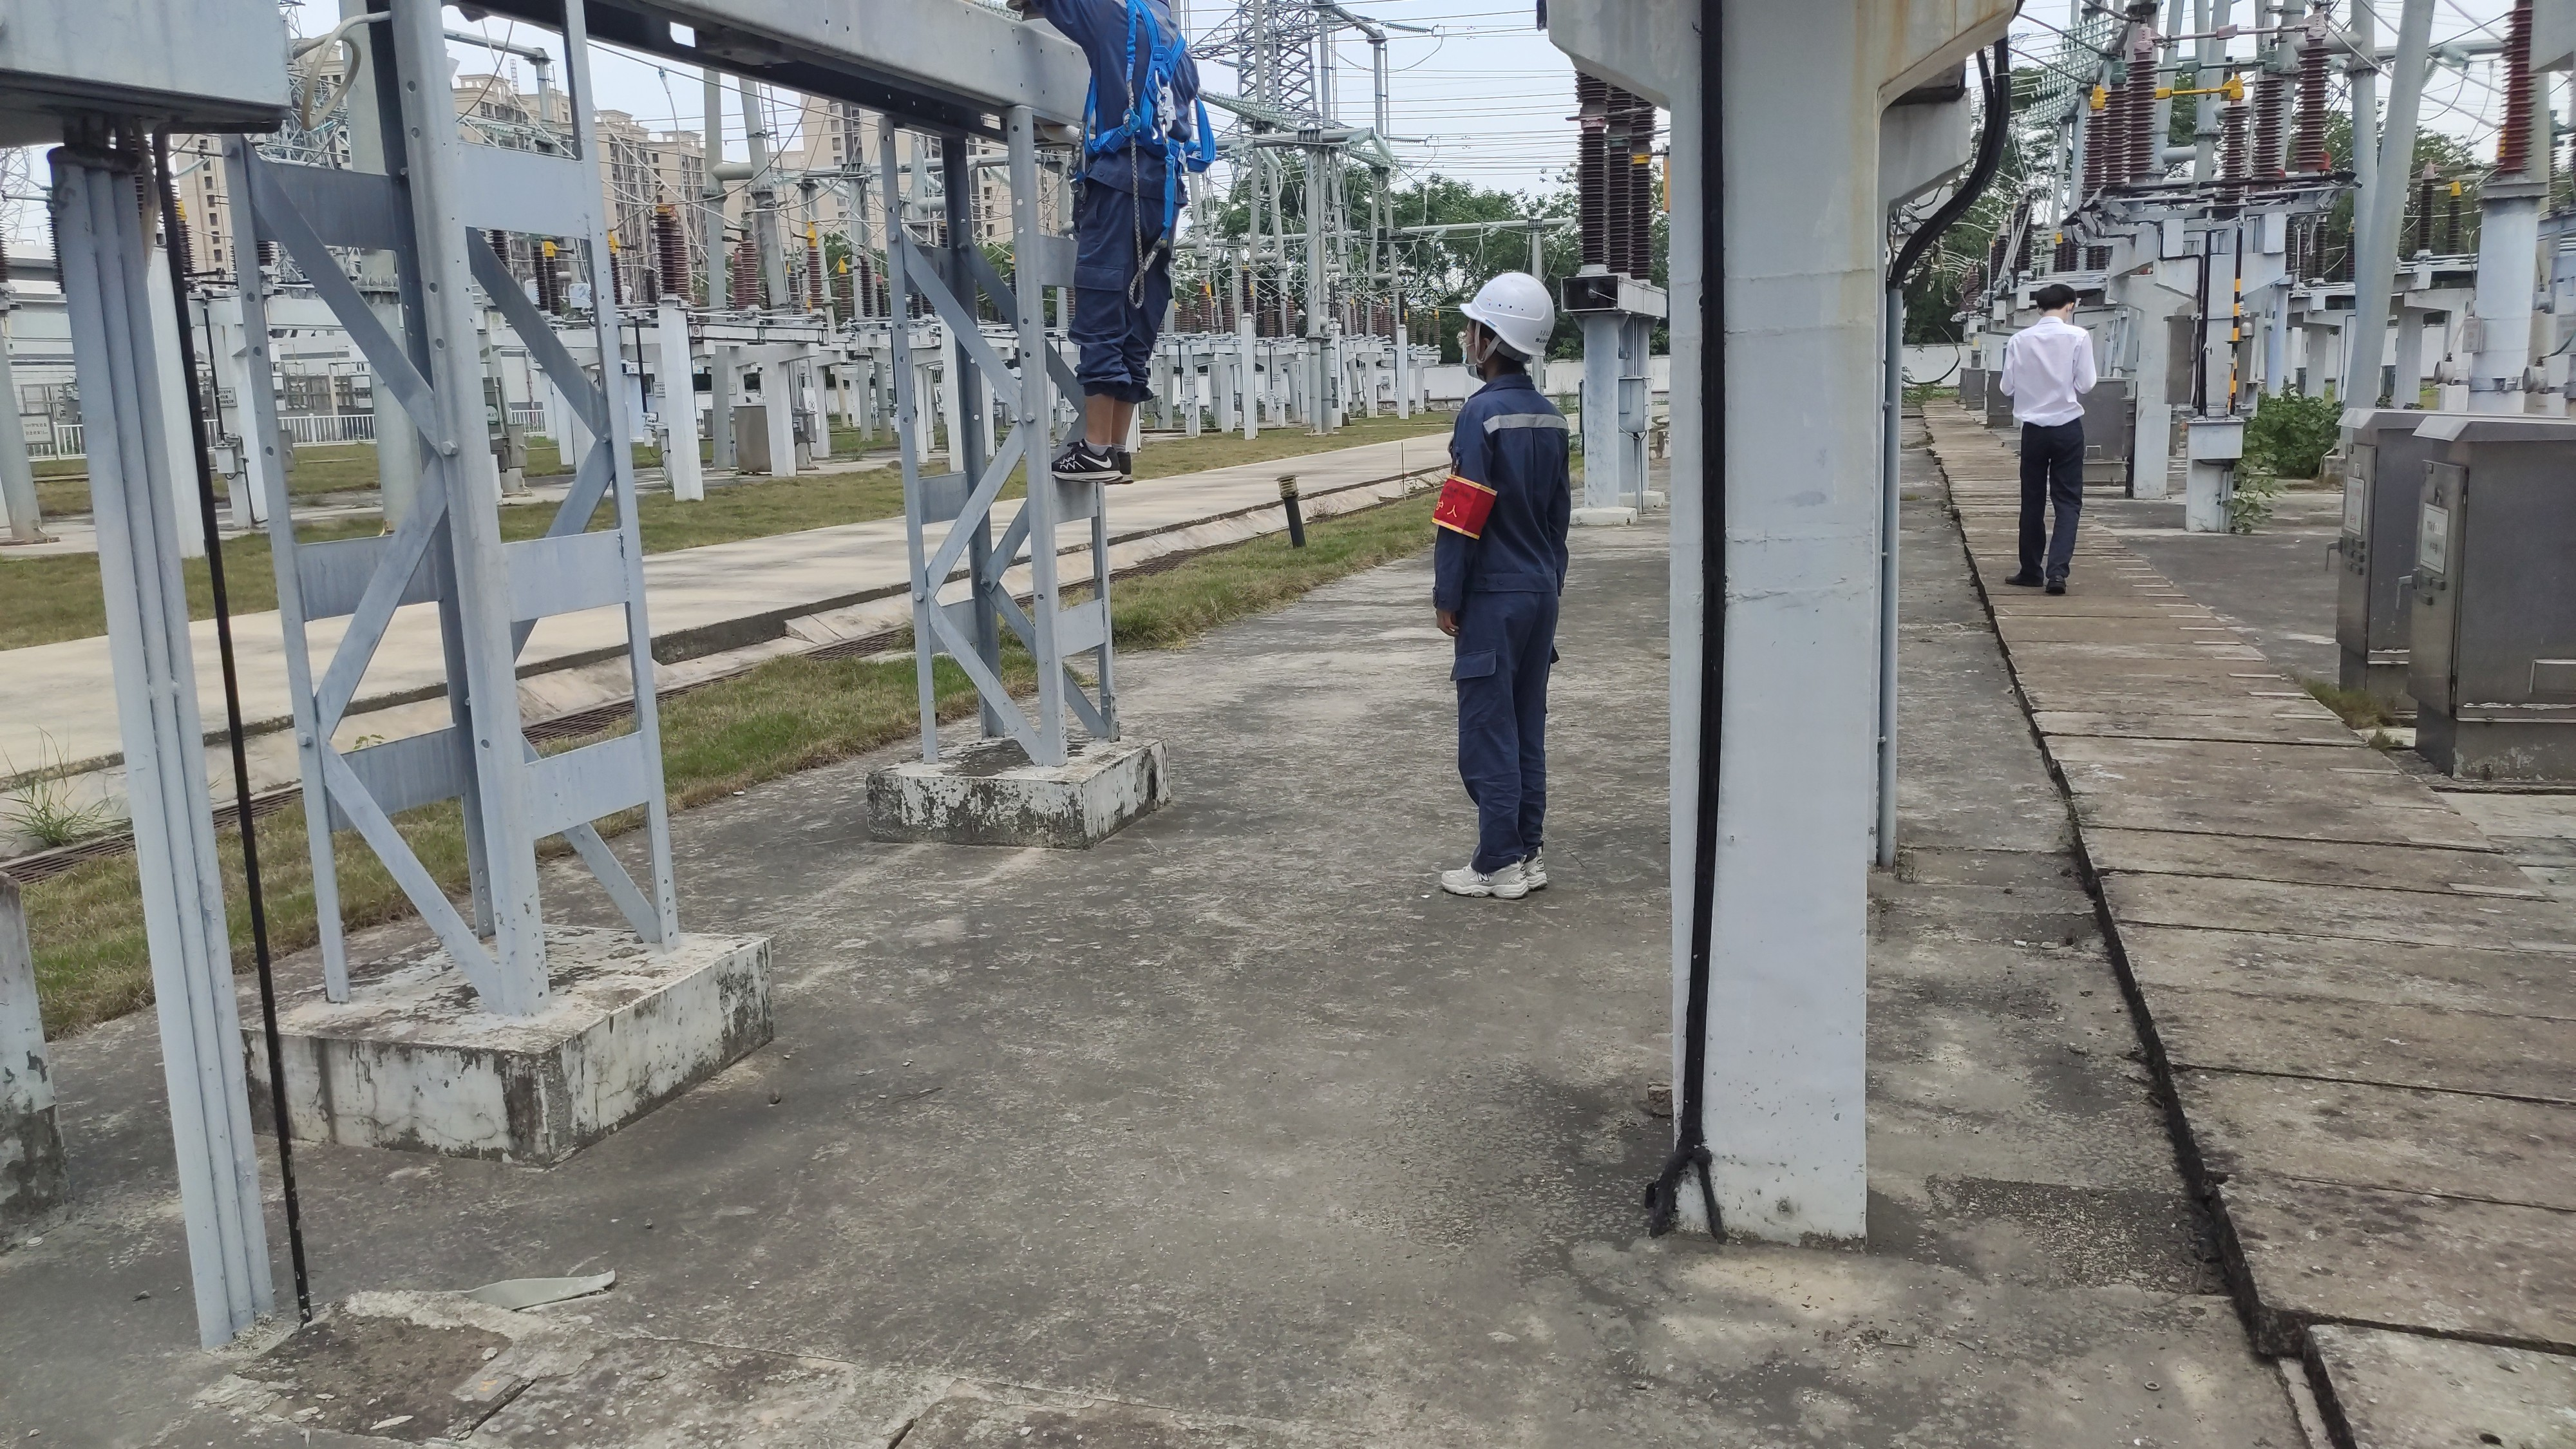downcloth: (2017, 441, 2086, 577)
downsuit: (1449, 607, 1568, 858), (1065, 205, 1187, 402)
upcloth: (2005, 324, 2100, 428)
upsuit: (1431, 375, 1583, 593), (1076, 9, 1208, 198)
wrongbottom: (1074, 363, 1146, 456)
